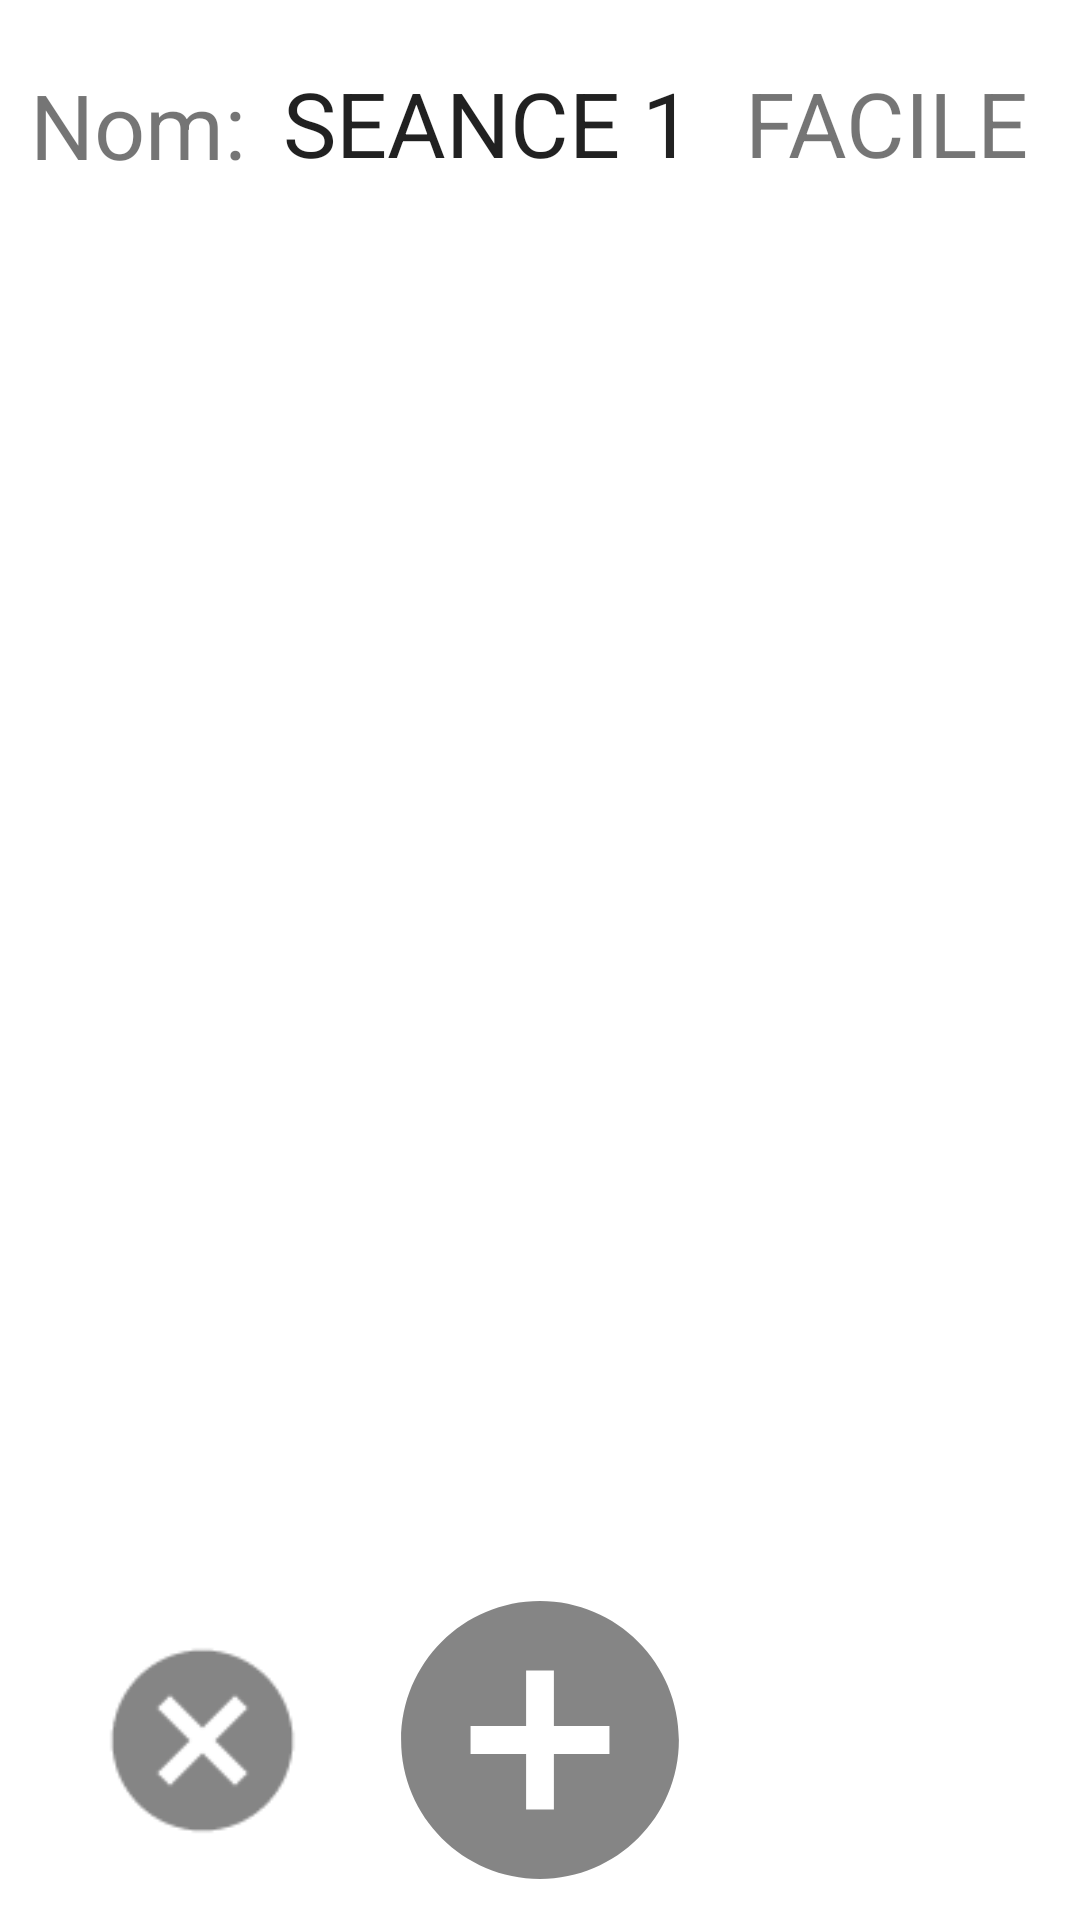

Named icons in this screenshot (1080×1920) and their centers, (x,y):
addcircle: (540,1740)
cancel circle: (202,1740)
